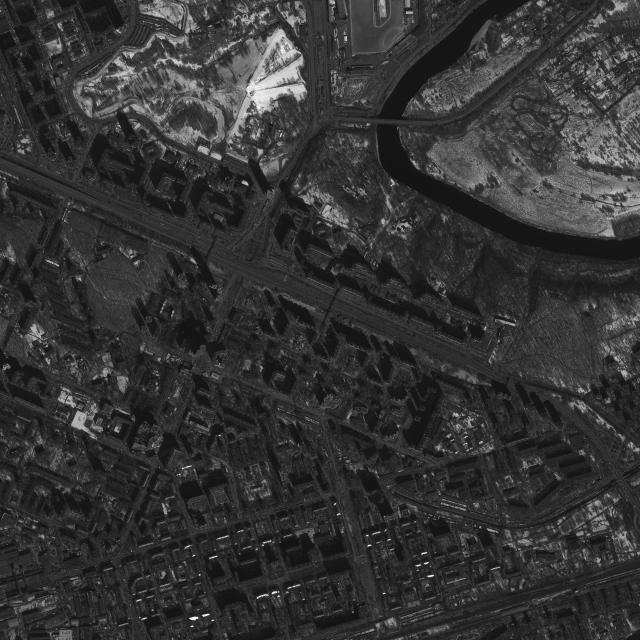storage-tank: (623, 385, 629, 391), (607, 387, 613, 393), (294, 11, 299, 17), (596, 394, 601, 399)
